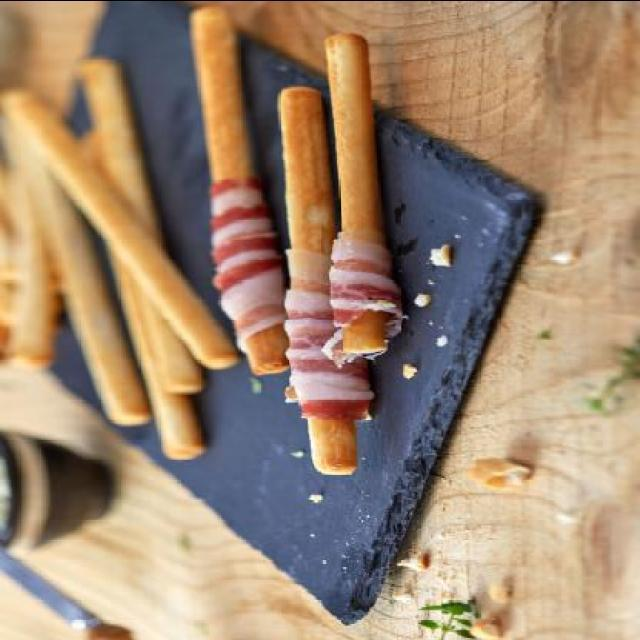Grissini: (279, 21, 403, 479), (188, 2, 254, 392)
